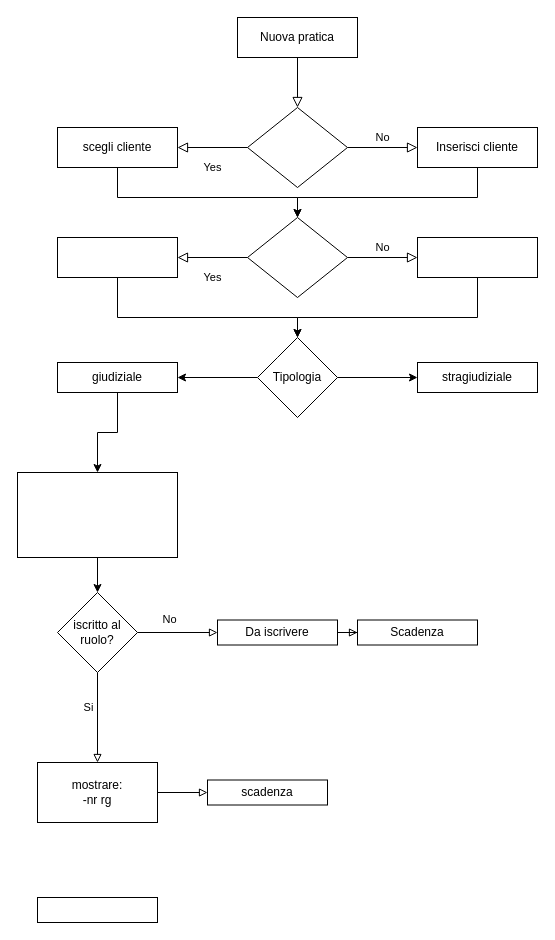
Some shapes in this 555 by 940 pixel diagram are drawn without their labels. Each missing label, with the centre of its shape:
Cliente già registrato?: the point at 297,147
controparte già presente?: the point at 297,257
documenti: the point at 97,909
inserimento anagrafica: - materia - competenza - luogo: the point at 97,515
Inserisci controparte: the point at 477,257
scegli controparte: the point at 117,257
